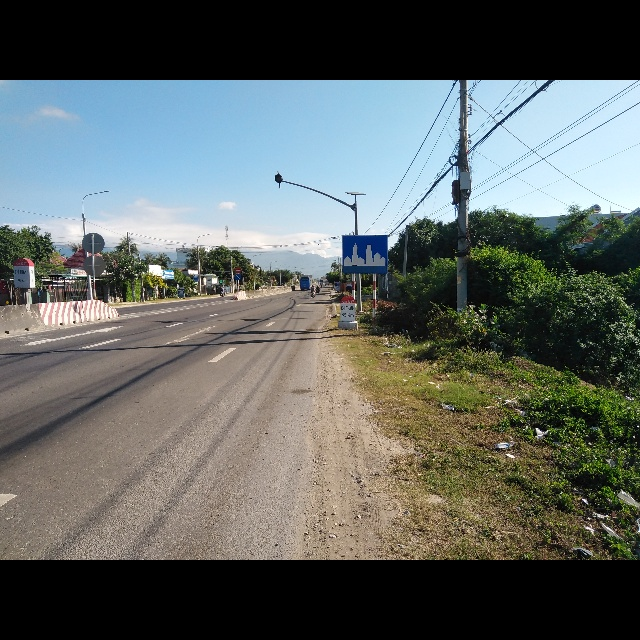Khu đông dân cư: (341, 235, 389, 274)
